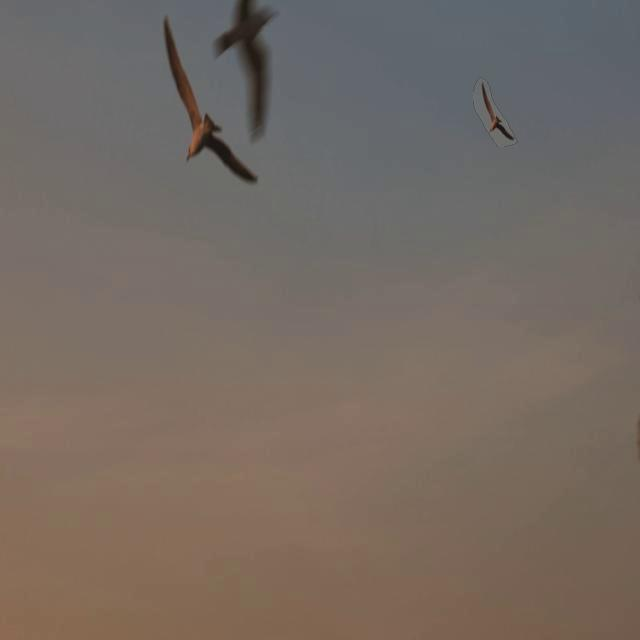bird: (158, 12, 262, 188), (208, 0, 286, 150), (468, 79, 520, 150)
